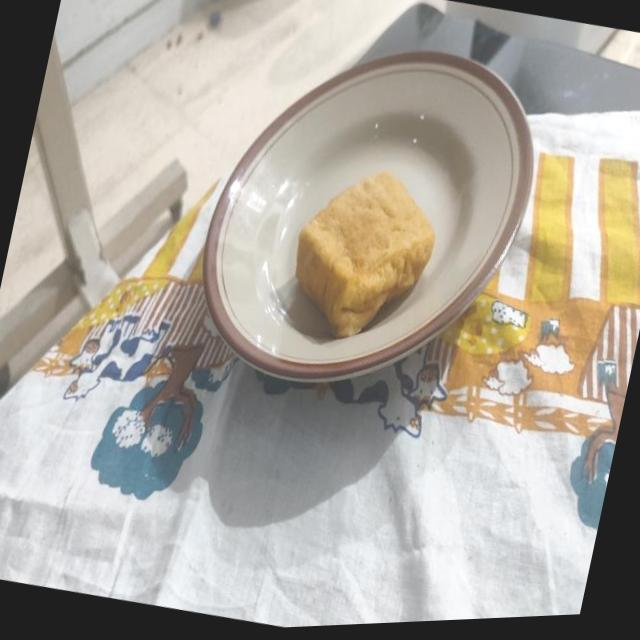tahu_goreng: (295, 172, 434, 338)
